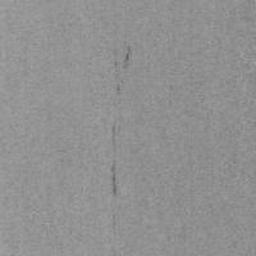Inclusion: (113, 51, 132, 69), (110, 163, 118, 196), (110, 125, 118, 151), (115, 82, 122, 92), (111, 214, 116, 228)
